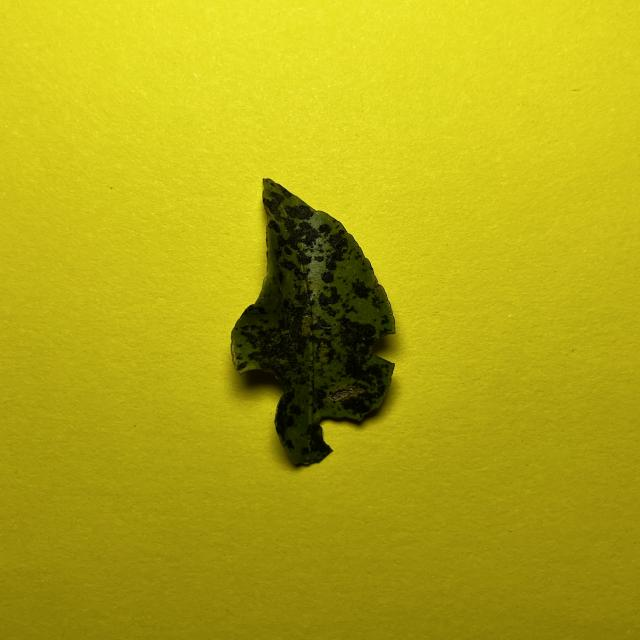sooty_mold: (231, 179, 394, 465)
